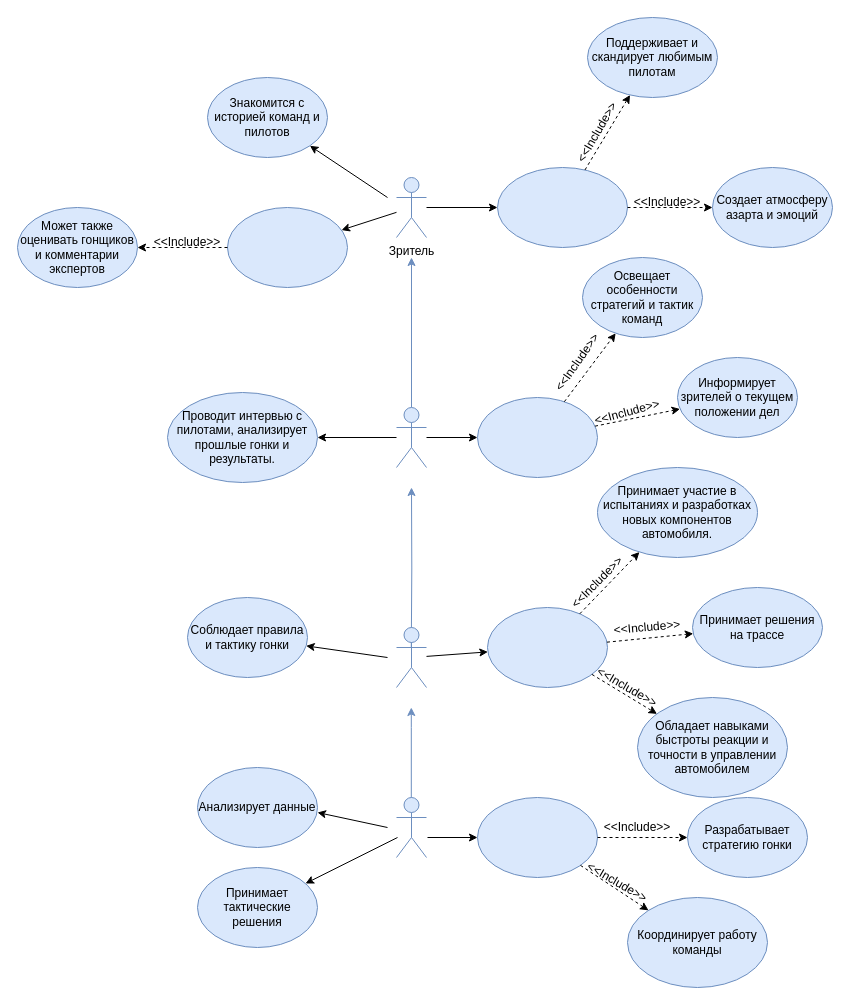
The diagram is 850 pixels wide and 1005 high, and some of its shapes have lost their labels. Here are the shapes that lost their labels. From the top down, the box of each, then its label:
(496, 166, 628, 248): Наблюдает за гонкой
(226, 206, 348, 288): Поддерживает гоночный спорт
(396, 406, 426, 468): Комментатор
(476, 396, 598, 478): Анализирует и комментирует происходящее на трассе
(396, 626, 426, 688): Пилот
(486, 606, 608, 688): Управляет машиной
(396, 796, 426, 858): Тренер
(476, 796, 598, 878): Отвечает за подготовку и тренировки пилота
